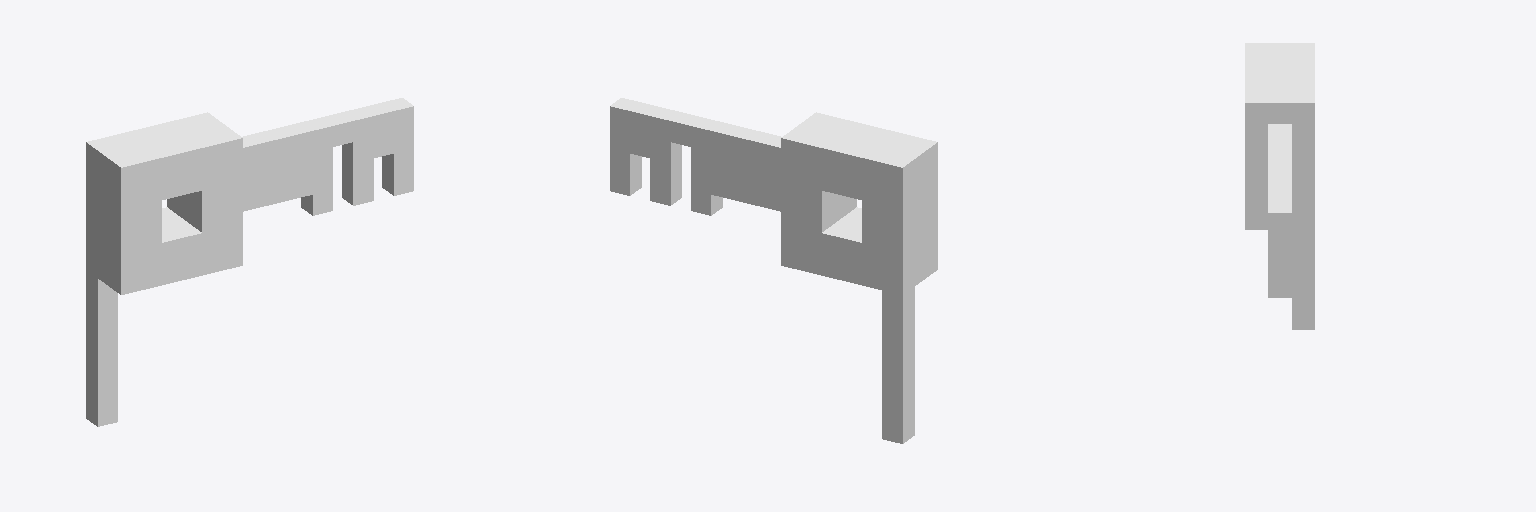
Rendered from llave.obj.
3 renders of one model, left to right at view 1: azimuth 30°, elevation 25°; view 2: azimuth 150°, elevation 25°; view 3: azimuth 270°, elevation 25°, orthographic.
Bounding box in the file's own units: 15 × 13 × 3.